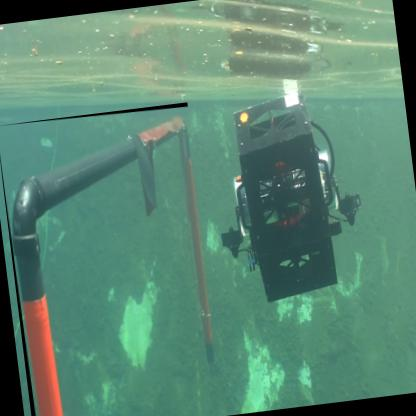gate: (1, 102, 229, 416)
